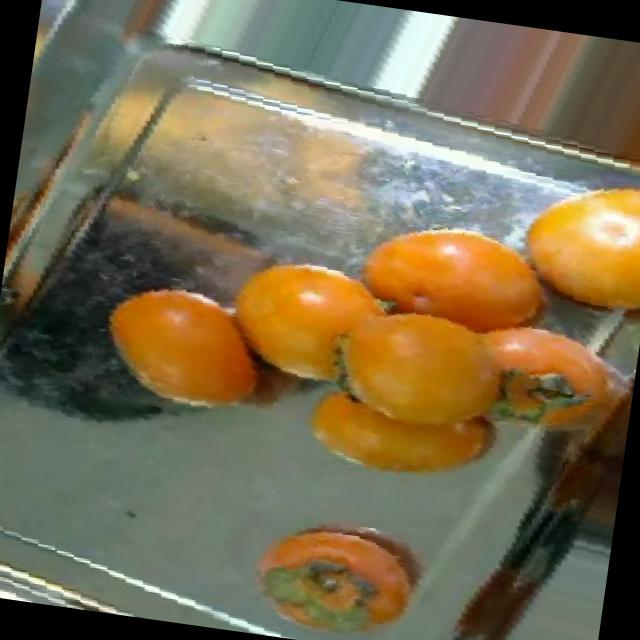Fruit: (74, 258, 297, 439), (202, 246, 414, 410), (226, 493, 457, 640), (496, 166, 640, 329)
